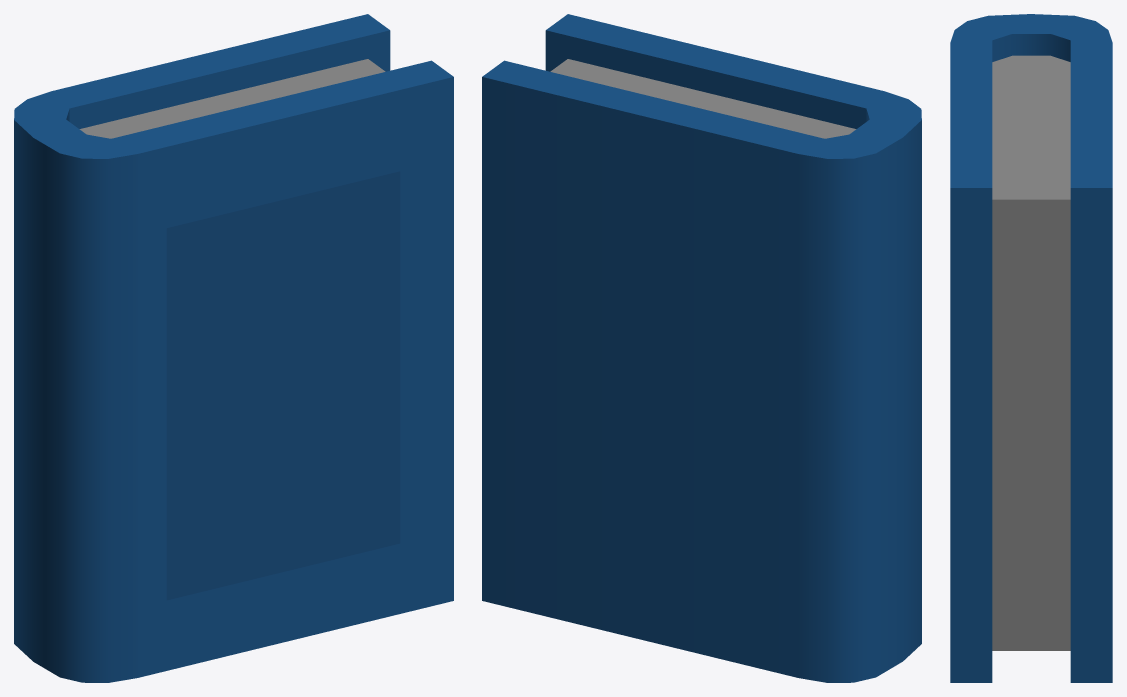
The model's file is book_v1.fbx.
The picture shows the model from 3 angles, left to right: view 1: azimuth 30°, elevation 25°; view 2: azimuth 150°, elevation 25°; view 3: azimuth 270°, elevation 25°; orthographic projection. The views are drawn at different scales.
Visible parts, largest first — view 1: book_v1; view 2: book_v1; view 3: book_v1.
Part boxes in pixels (box(x1,y1,x2,y2)): book_v1: box(14, 14, 453, 682); book_v1: box(482, 14, 921, 682); book_v1: box(950, 14, 1112, 682).
Size of the model in its own units: 36.17 by 47.94 by 14.24.
